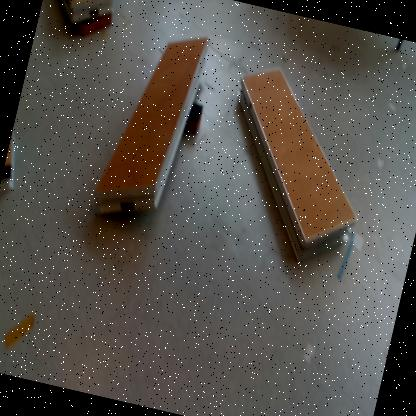Stairs: (237, 67, 358, 263), (96, 38, 209, 219), (60, 1, 116, 28), (2, 132, 13, 183)
